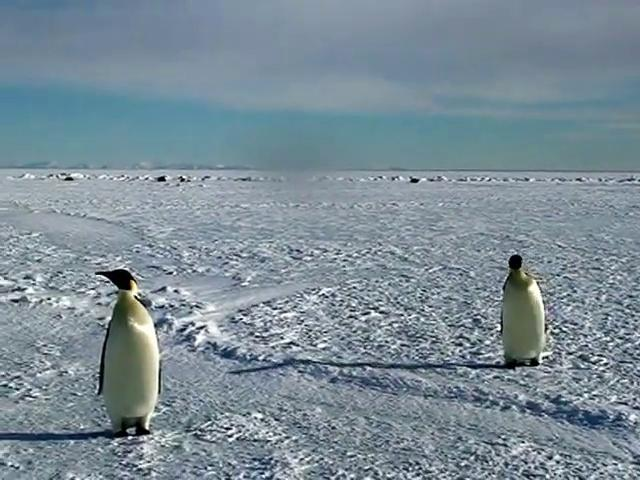animal: (96, 269, 160, 436)
